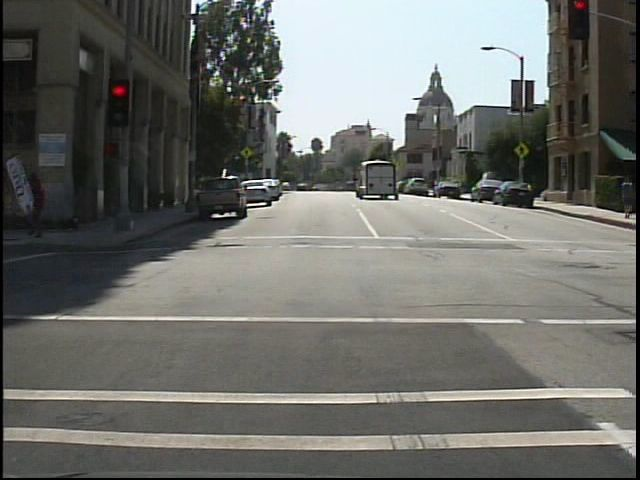person: (19, 164, 60, 242), (619, 174, 639, 221)
